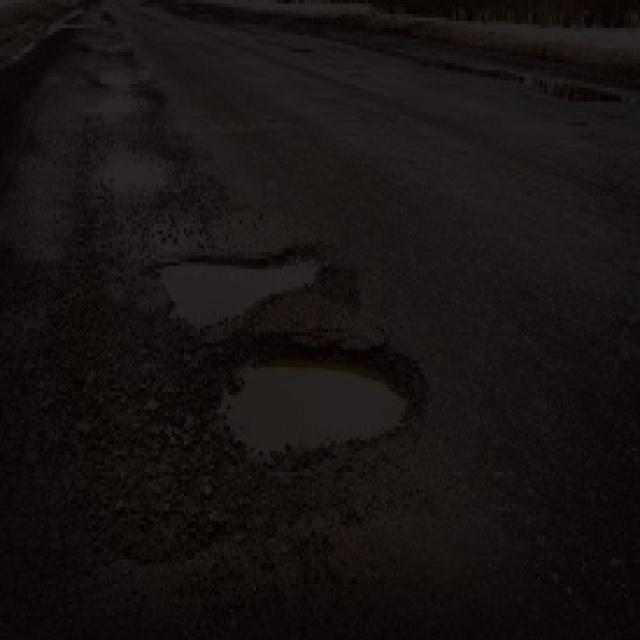Pothole: (195, 326, 430, 468), (0, 84, 183, 244), (155, 227, 341, 336)
